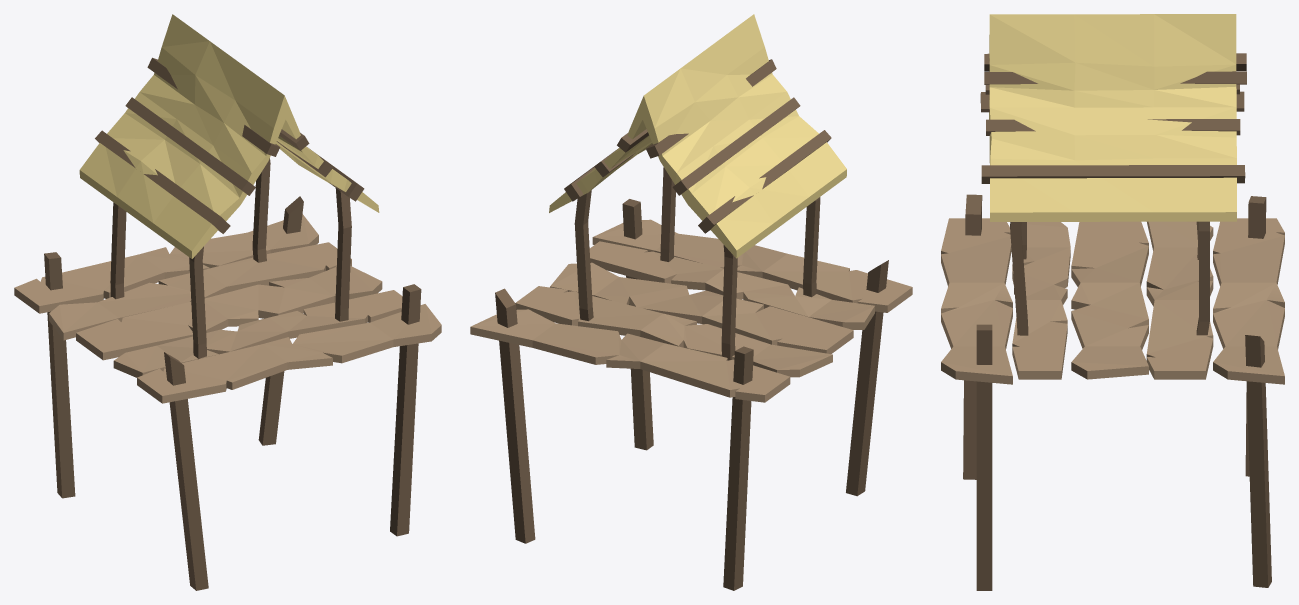
Rendered from Veranda_2.fbx.
3 renders of one model, left to right at view 1: azimuth 30°, elevation 25°; view 2: azimuth 150°, elevation 25°; view 3: azimuth 270°, elevation 25°, orthographic. The views are drawn at different scales.
Parts seen in each view (by area): view 1: Platform_3, Veranda_2; view 2: Platform_3, Veranda_2; view 3: Platform_3, Veranda_2.
Boxes of the visible parts, x1,y1,x2,y2 form: Platform_3: [14, 196, 441, 590]; Veranda_2: [79, 14, 379, 359]; Platform_3: [470, 199, 912, 590]; Veranda_2: [549, 14, 846, 360]; Platform_3: [941, 194, 1284, 590]; Veranda_2: [980, 14, 1246, 335].
Bounding box in the file's own units: 339 × 497 × 302.
1 material, 1 textured.
